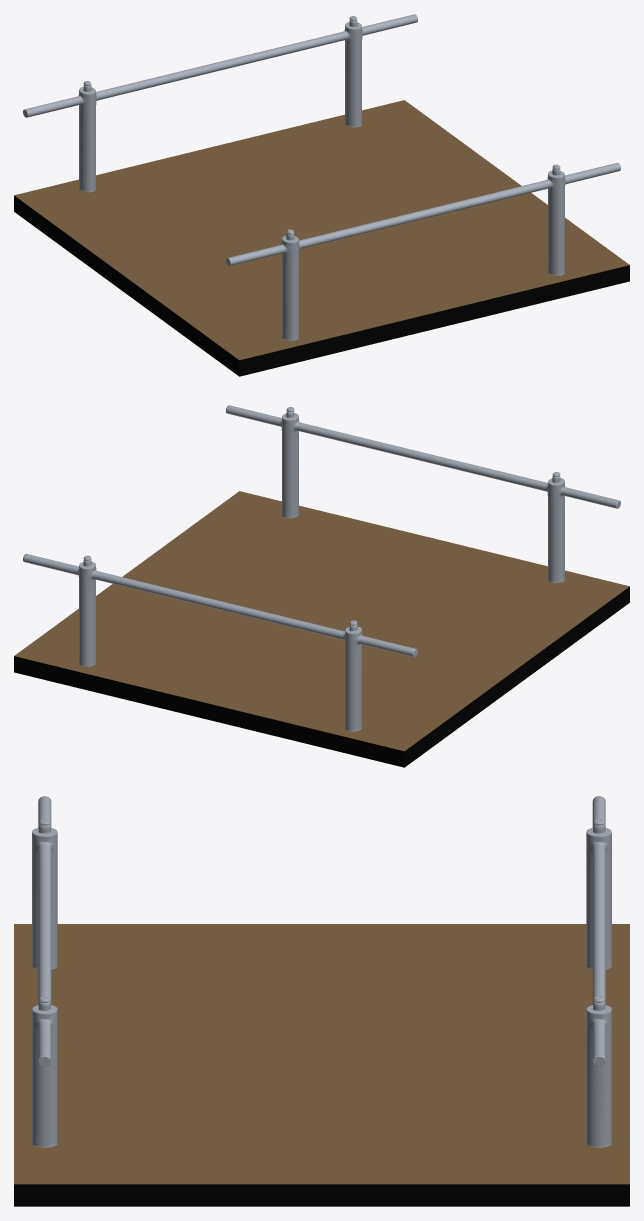
The model's file is LP_Module_Floor_EngineRoom.fbx.
3 renders of one model, top to bottom at view 1: azimuth 30°, elevation 25°; view 2: azimuth 150°, elevation 25°; view 3: azimuth 270°, elevation 25°, orthographic. The views are drawn at different scales.
Parts seen in each view (by area): view 1: M_Floor_Big, M_Floor_EngineRoom; view 2: M_Floor_Big, M_Floor_EngineRoom; view 3: M_Floor_Big, M_Floor_EngineRoom.
Boxes of the visible parts, box(x1,y1,x2,y2) form: M_Floor_Big: box(14, 100, 629, 376); M_Floor_EngineRoom: box(23, 14, 620, 340); M_Floor_Big: box(14, 491, 629, 767); M_Floor_EngineRoom: box(23, 405, 620, 731); M_Floor_Big: box(14, 924, 629, 1206); M_Floor_EngineRoom: box(32, 796, 611, 1147).
Size of the model in its own units: 500 by 150 by 500.
